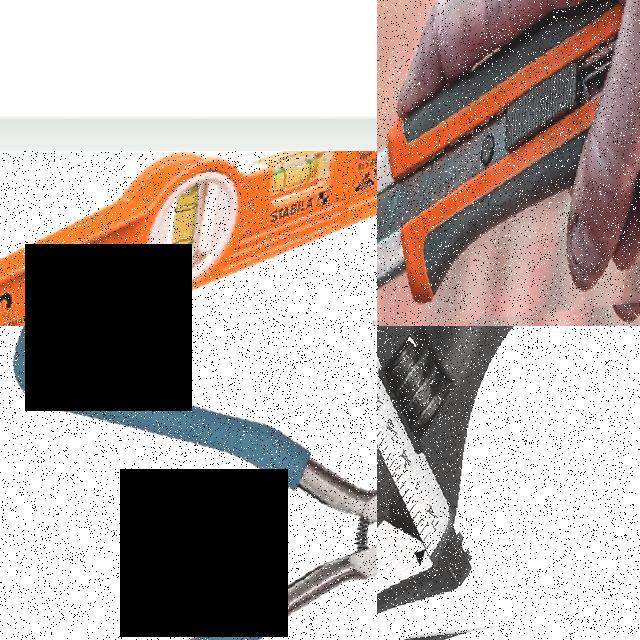estilete: (377, 0, 621, 300)
